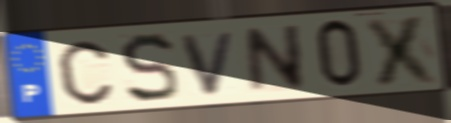0: (312, 16, 366, 94)
C: (55, 38, 116, 107)
N: (243, 22, 308, 97)
S: (117, 31, 181, 106)
V: (179, 28, 240, 98)
X: (361, 12, 443, 88)
